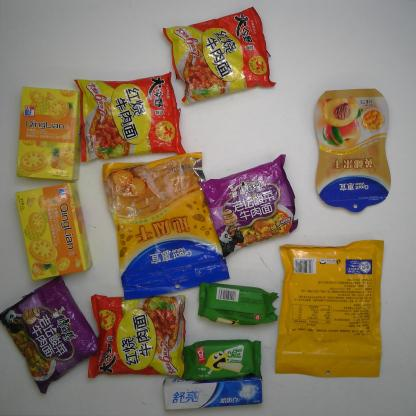Dessert: (15, 180, 94, 284), (15, 85, 84, 182), (198, 280, 279, 329), (181, 339, 262, 382)
Dried Fruit: (101, 149, 233, 299), (274, 238, 386, 379), (312, 87, 394, 214)
Instant Noodles: (0, 274, 100, 398), (162, 4, 276, 108), (198, 152, 298, 260), (72, 71, 186, 163), (87, 293, 187, 382)
Personal Hygiene: (162, 374, 264, 412)
